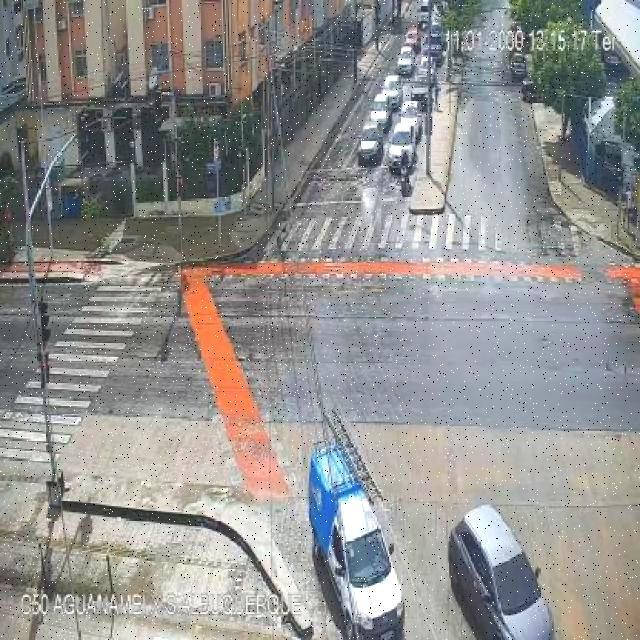Car: (441, 502, 561, 640), (354, 123, 384, 167), (386, 124, 416, 166), (398, 98, 426, 133), (367, 97, 391, 131), (381, 74, 402, 108), (408, 80, 433, 106), (396, 47, 416, 77)
Cycle: (392, 153, 415, 198)
Truck: (276, 404, 428, 640)
